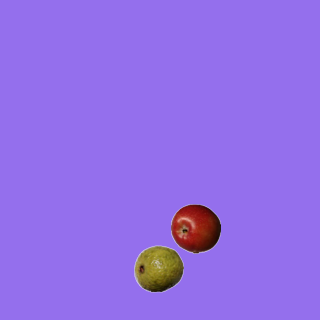Apple Braeburn: (170, 203, 220, 253)
Guava: (133, 243, 183, 293)
